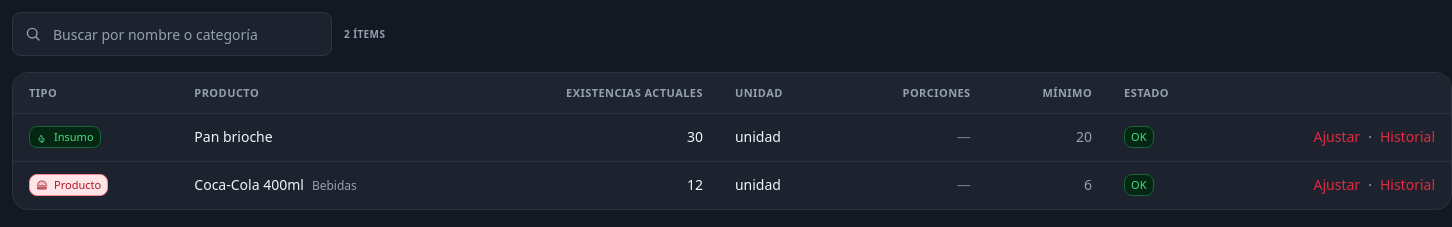
Test case: buscador de existencias › filtra por nombre y por categoría
Type "pan" into the search field named "Buscar existencias por nombre o categoría".
click(172, 34); type("pan")  # box x1=13 y1=13 x2=331 y2=55
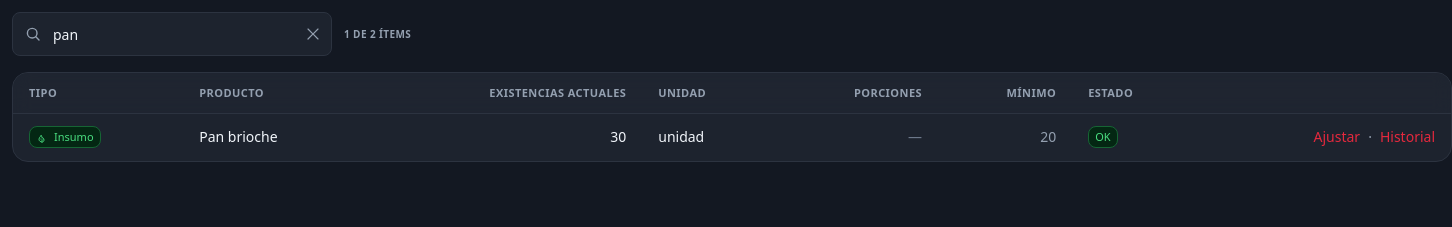
Check: the text "Coca-Cola 400ml" is gone
Replace the text in the search field named "Buscar existencias por nombre o categoría" with "bebidas" at (156, 34), box x1=13 y1=13 x2=299 y2=55
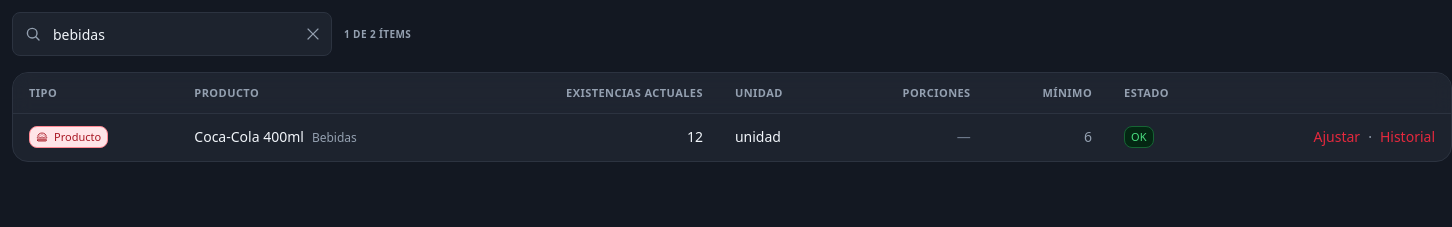
Check: the text "Coca-Cola 400ml" is shown, box x1=194 y1=127 x2=304 y2=147
Check: the text "Pan brioche" is gone
